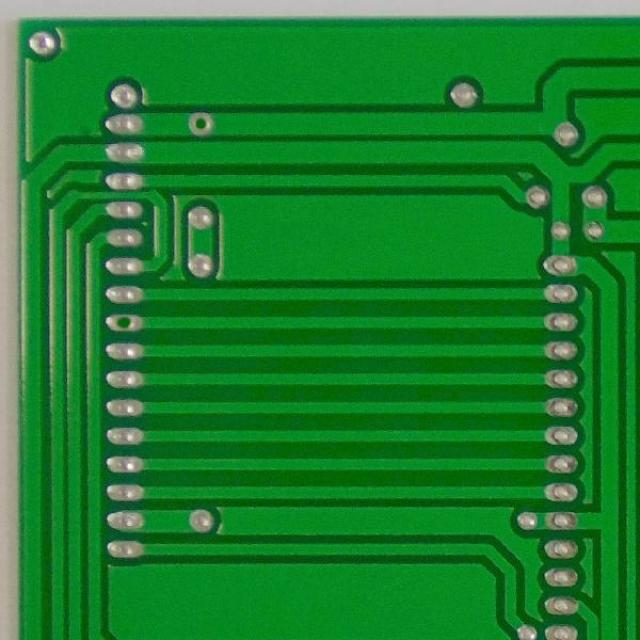missing_hole: (182, 109, 218, 138), (108, 309, 141, 336)
